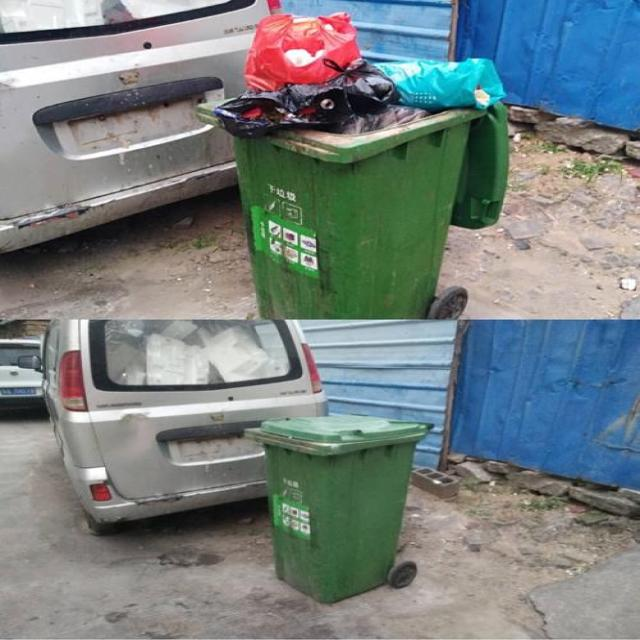garbage_bin: (242, 413, 433, 602)
overflow: (197, 13, 510, 316)
